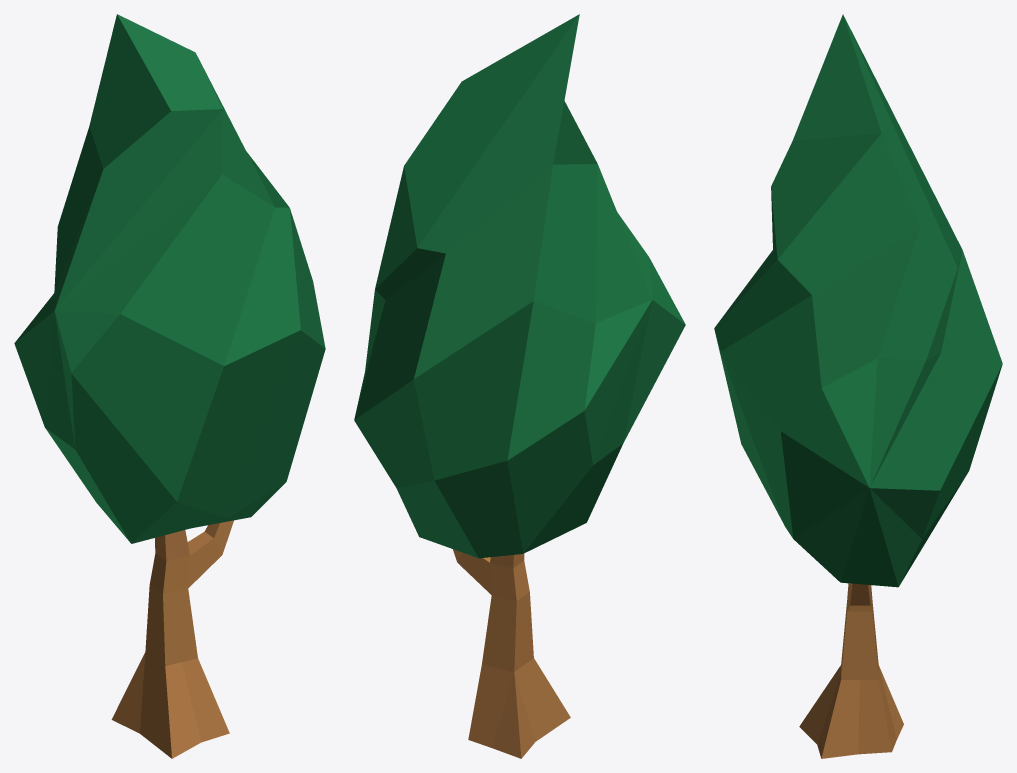
Rendered from Arbre1.1.fbx.
3 renders of one model, left to right at view 1: azimuth 30°, elevation 25°; view 2: azimuth 150°, elevation 25°; view 3: azimuth 270°, elevation 25°, orthographic. The views are drawn at different scales.
Parts seen in each view (by area): view 1: Sphere002; view 2: Sphere002; view 3: Sphere002.
Part boxes in pixels (x1=…): Sphere002: x1=14, y1=14, x2=325, y2=758; Sphere002: x1=354, y1=14, x2=685, y2=758; Sphere002: x1=714, y1=14, x2=1002, y2=758.
Size of the model in its own units: 28.02 by 70.52 by 26.43.
1 material, 1 textured.
